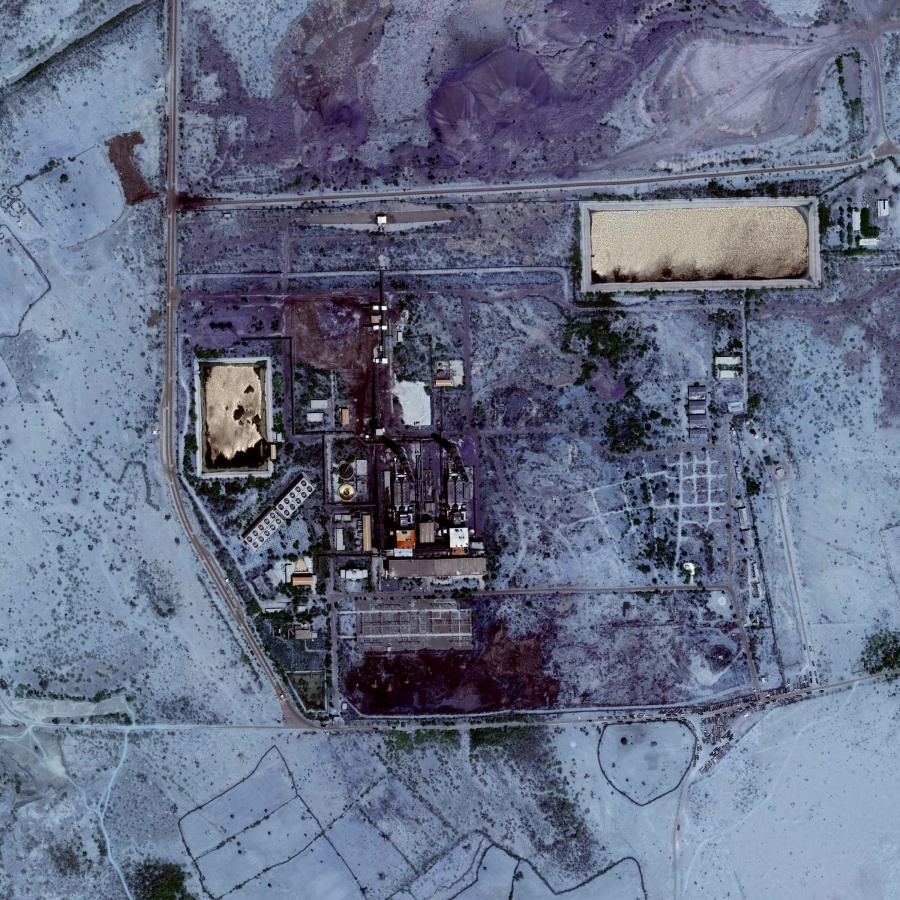PowerPlant: (182, 274, 552, 712)
